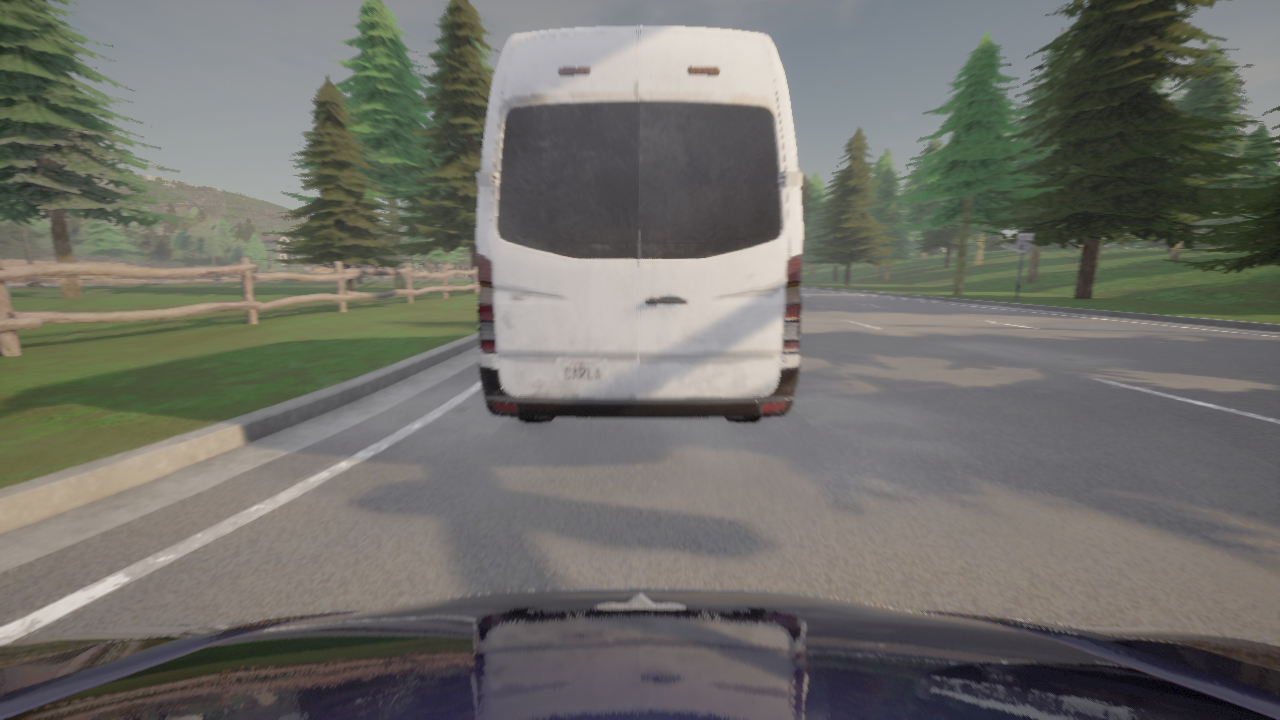cyclist: (0, 588, 1279, 719), (477, 26, 801, 422)
